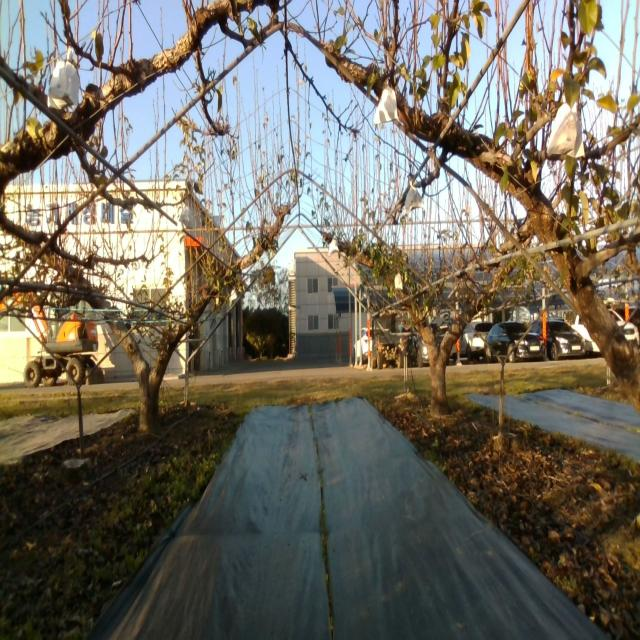pearbags: (544, 102, 584, 159), (47, 50, 80, 111), (374, 85, 398, 125), (404, 181, 424, 215), (177, 206, 196, 232), (328, 238, 340, 256)
